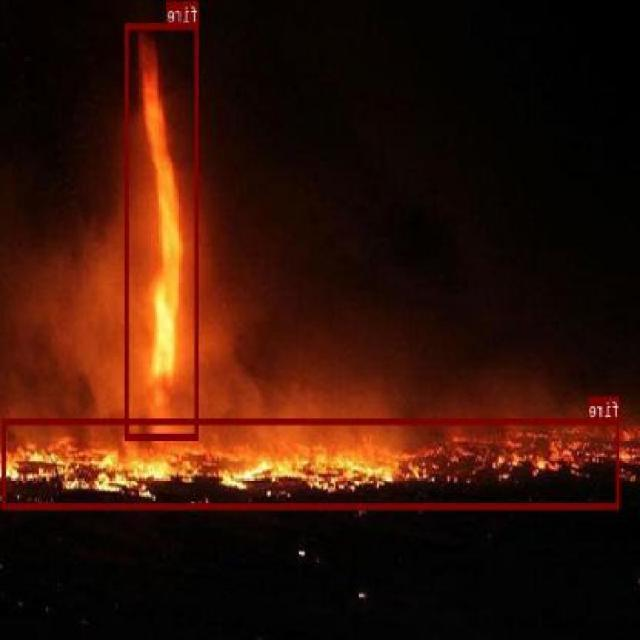Fire: (0, 396, 632, 498), (132, 36, 190, 418)
Smoke: (23, 216, 256, 424)
